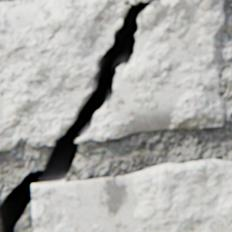brick: (32, 158, 231, 231), (0, 212, 2, 231)
broken_brick: (0, 0, 225, 150)
crack: (0, 1, 151, 231), (20, 134, 25, 139)
